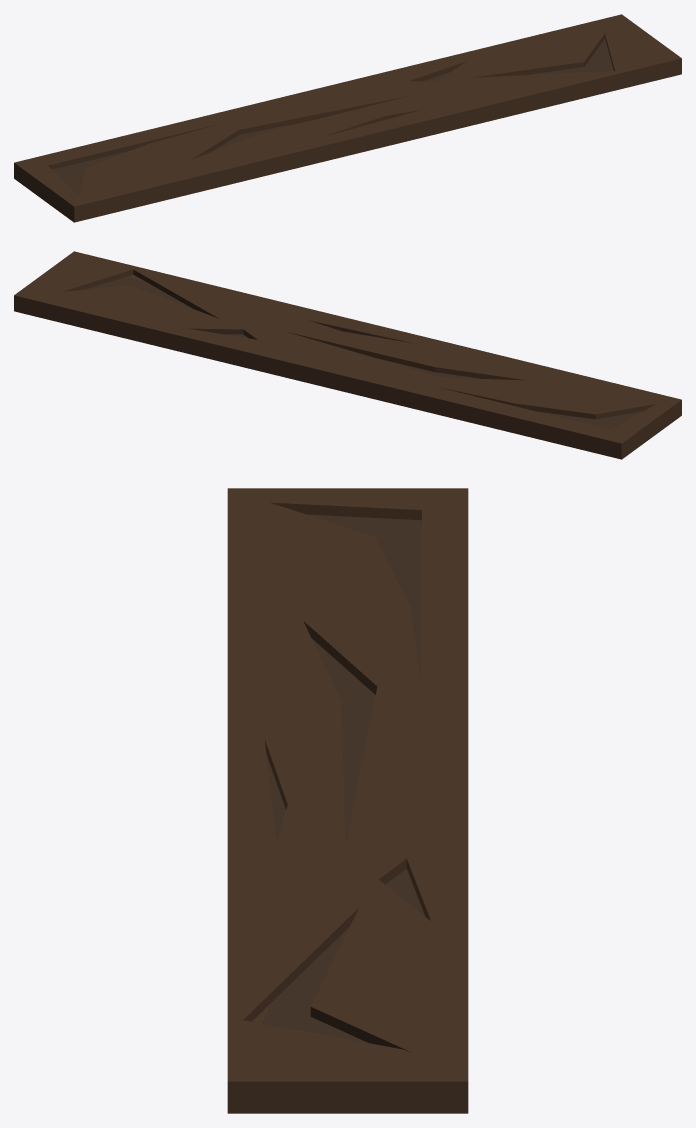
Rendered from Planche a cassé 1 mine.fbx.
3 views of the same model, one above another, from view 1: azimuth 30°, elevation 25°; view 2: azimuth 150°, elevation 25°; view 3: azimuth 270°, elevation 25° (orthographic). The views are drawn at different scales.
Visible parts, largest first — view 1: Cube; view 2: Cube; view 3: Cube.
Part boxes in pixels (left/top/right/bottom): Cube: left=14, top=14, right=681, bottom=222; Cube: left=14, top=251, right=681, bottom=459; Cube: left=227, top=488, right=468, bottom=1113.
Size of the model in its own units: 864 by 21.74 by 148.
